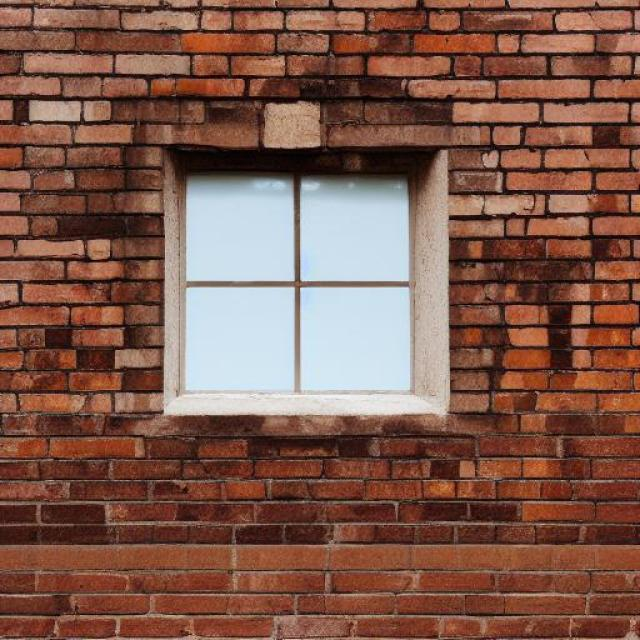window: (182, 172, 412, 391)
